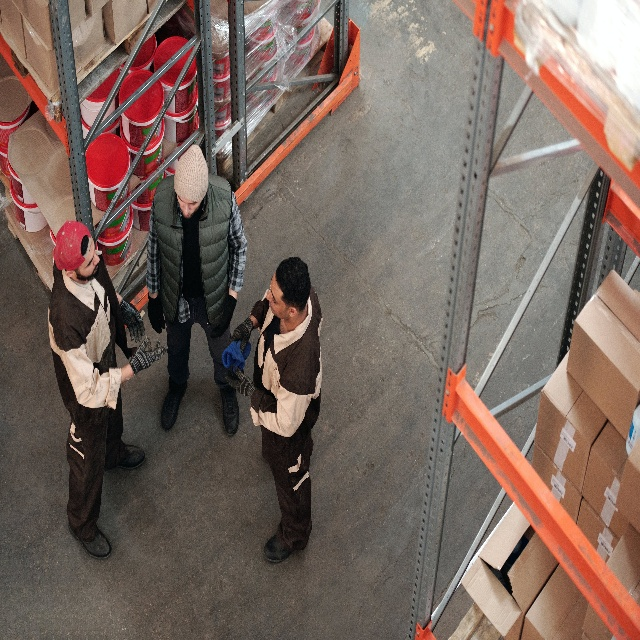Guantes: (129, 334, 168, 376), (209, 292, 237, 339), (119, 295, 145, 344), (224, 364, 257, 400), (226, 315, 253, 353), (147, 290, 166, 332)
